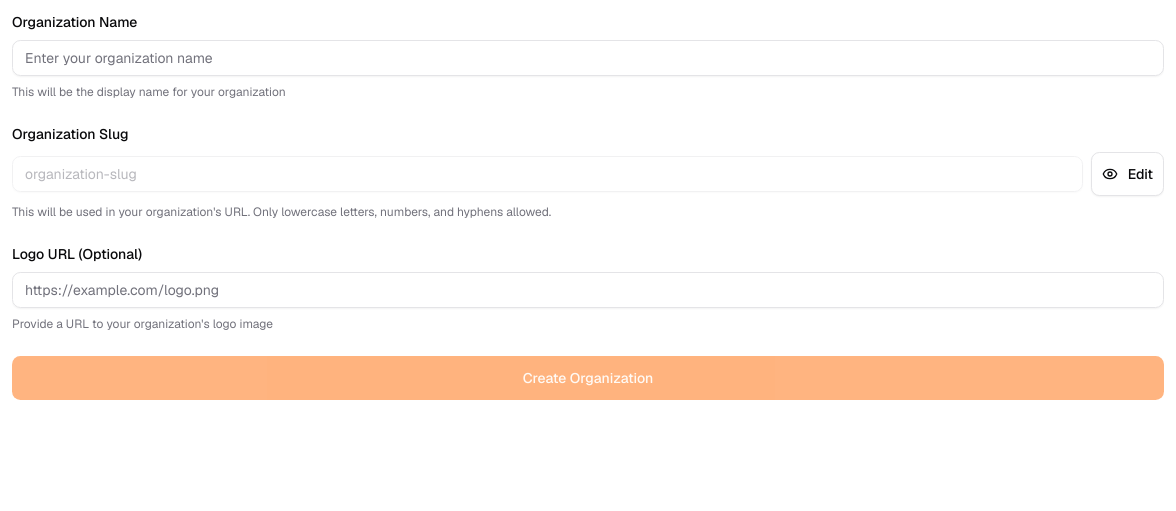
it: CreateorganizationForm - Basic Functionality › Form Validation › shows validation error for short organization name
Type "A" into the field labelled "Organization Name".
click(588, 58); type("A")  # box [12,40,1164,76]
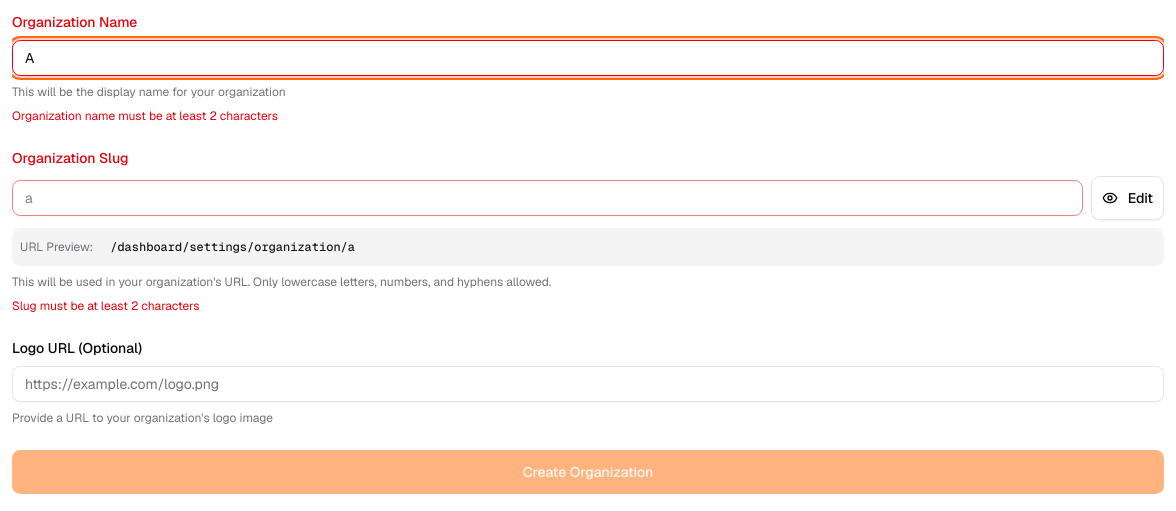
Expected: the text "Organization name must be at least 2 characters" is shown, [12,108,278,124]
